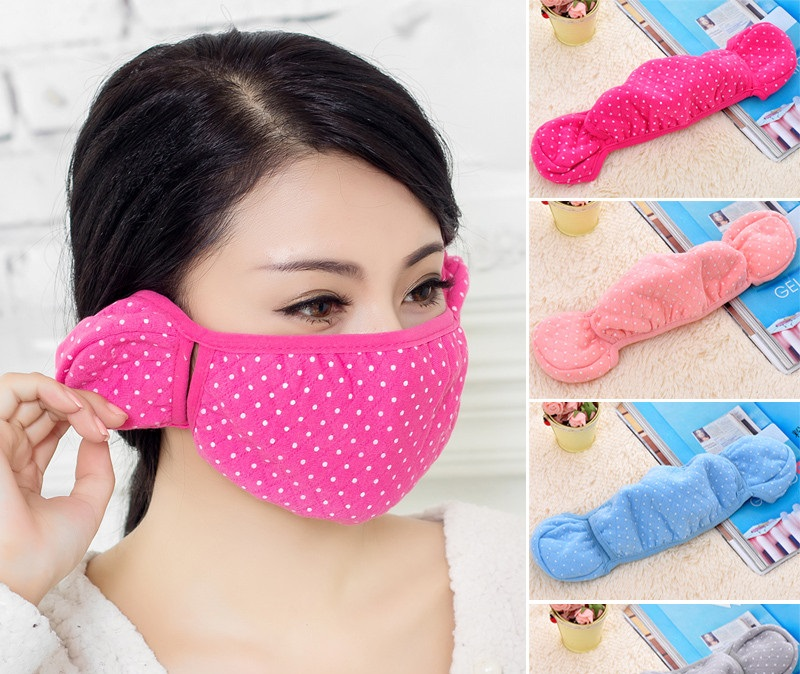face_mask: (177, 163, 468, 525)
